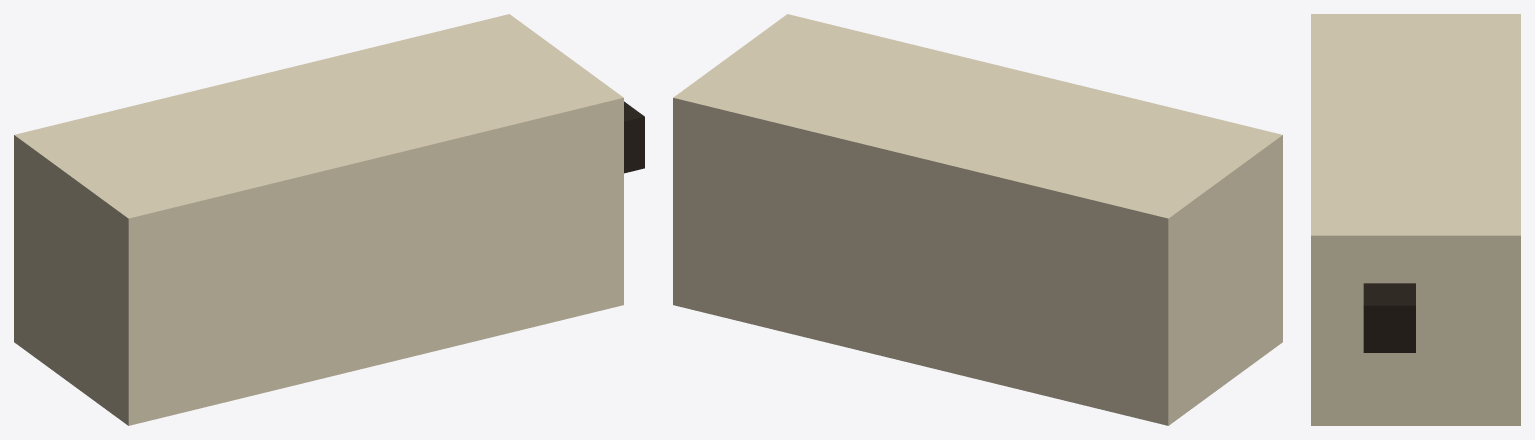
Rendered from candle.glb.
3 views of the same model, side by side, from view 1: azimuth 30°, elevation 25°; view 2: azimuth 150°, elevation 25°; view 3: azimuth 270°, elevation 25° (orthographic). The views are drawn at different scales.
Parts seen in each view (by area): view 1: candle:candle; view 2: candle:candle; view 3: candle:candle.
Boxes of the visible parts, x1,y1,x2,y2 form: candle:candle: (14, 14, 644, 425); candle:candle: (673, 14, 1282, 425); candle:candle: (1311, 14, 1520, 425).
Size of the model in its own units: 0.11 by 0.04 by 0.04.
